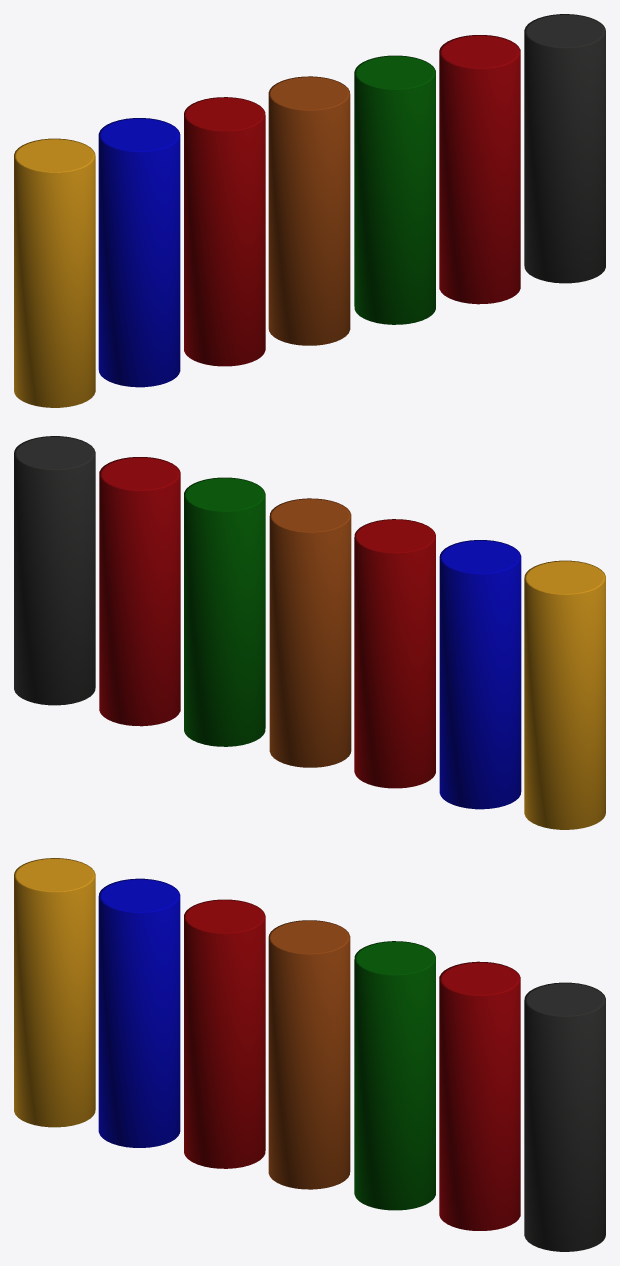
The model's file is canos.fbx.
The picture shows the model from 3 angles, top to bottom: view 1: azimuth 30°, elevation 25°; view 2: azimuth 150°, elevation 25°; view 3: azimuth 330°, elevation 25°; orthographic projection.
Visible parts, largest first — view 1: cano.003, cano.001, cano.002, cano.004, cano, cano.006, cano.005; view 2: cano.003, cano.001, cano.002, cano.004, cano, cano.006, cano.005; view 3: cano.003, cano.001, cano.002, cano.004, cano, cano.006, cano.005.
Boxes of the visible parts, x1,y1,x2,y2 form: cano.003: (268,76,350,345); cano.001: (98,118,180,387); cano.002: (184,97,265,366); cano.004: (354,55,435,324); cano: (14,138,95,407); cano.006: (524,14,605,283); cano.005: (439,35,520,304); cano.003: (269,498,351,767); cano.001: (439,540,521,809); cano.002: (354,519,435,788); cano.004: (184,477,265,746); cano: (524,560,605,829); cano.006: (14,436,95,705); cano.005: (99,457,180,726); cano.003: (268,920,350,1189); cano.001: (98,878,180,1147); cano.002: (184,899,265,1168); cano.004: (354,941,435,1210); cano: (14,858,95,1127); cano.006: (524,982,605,1251); cano.005: (439,961,520,1230).
Size of the model in its own units: 610 by 236 by 74.31.
